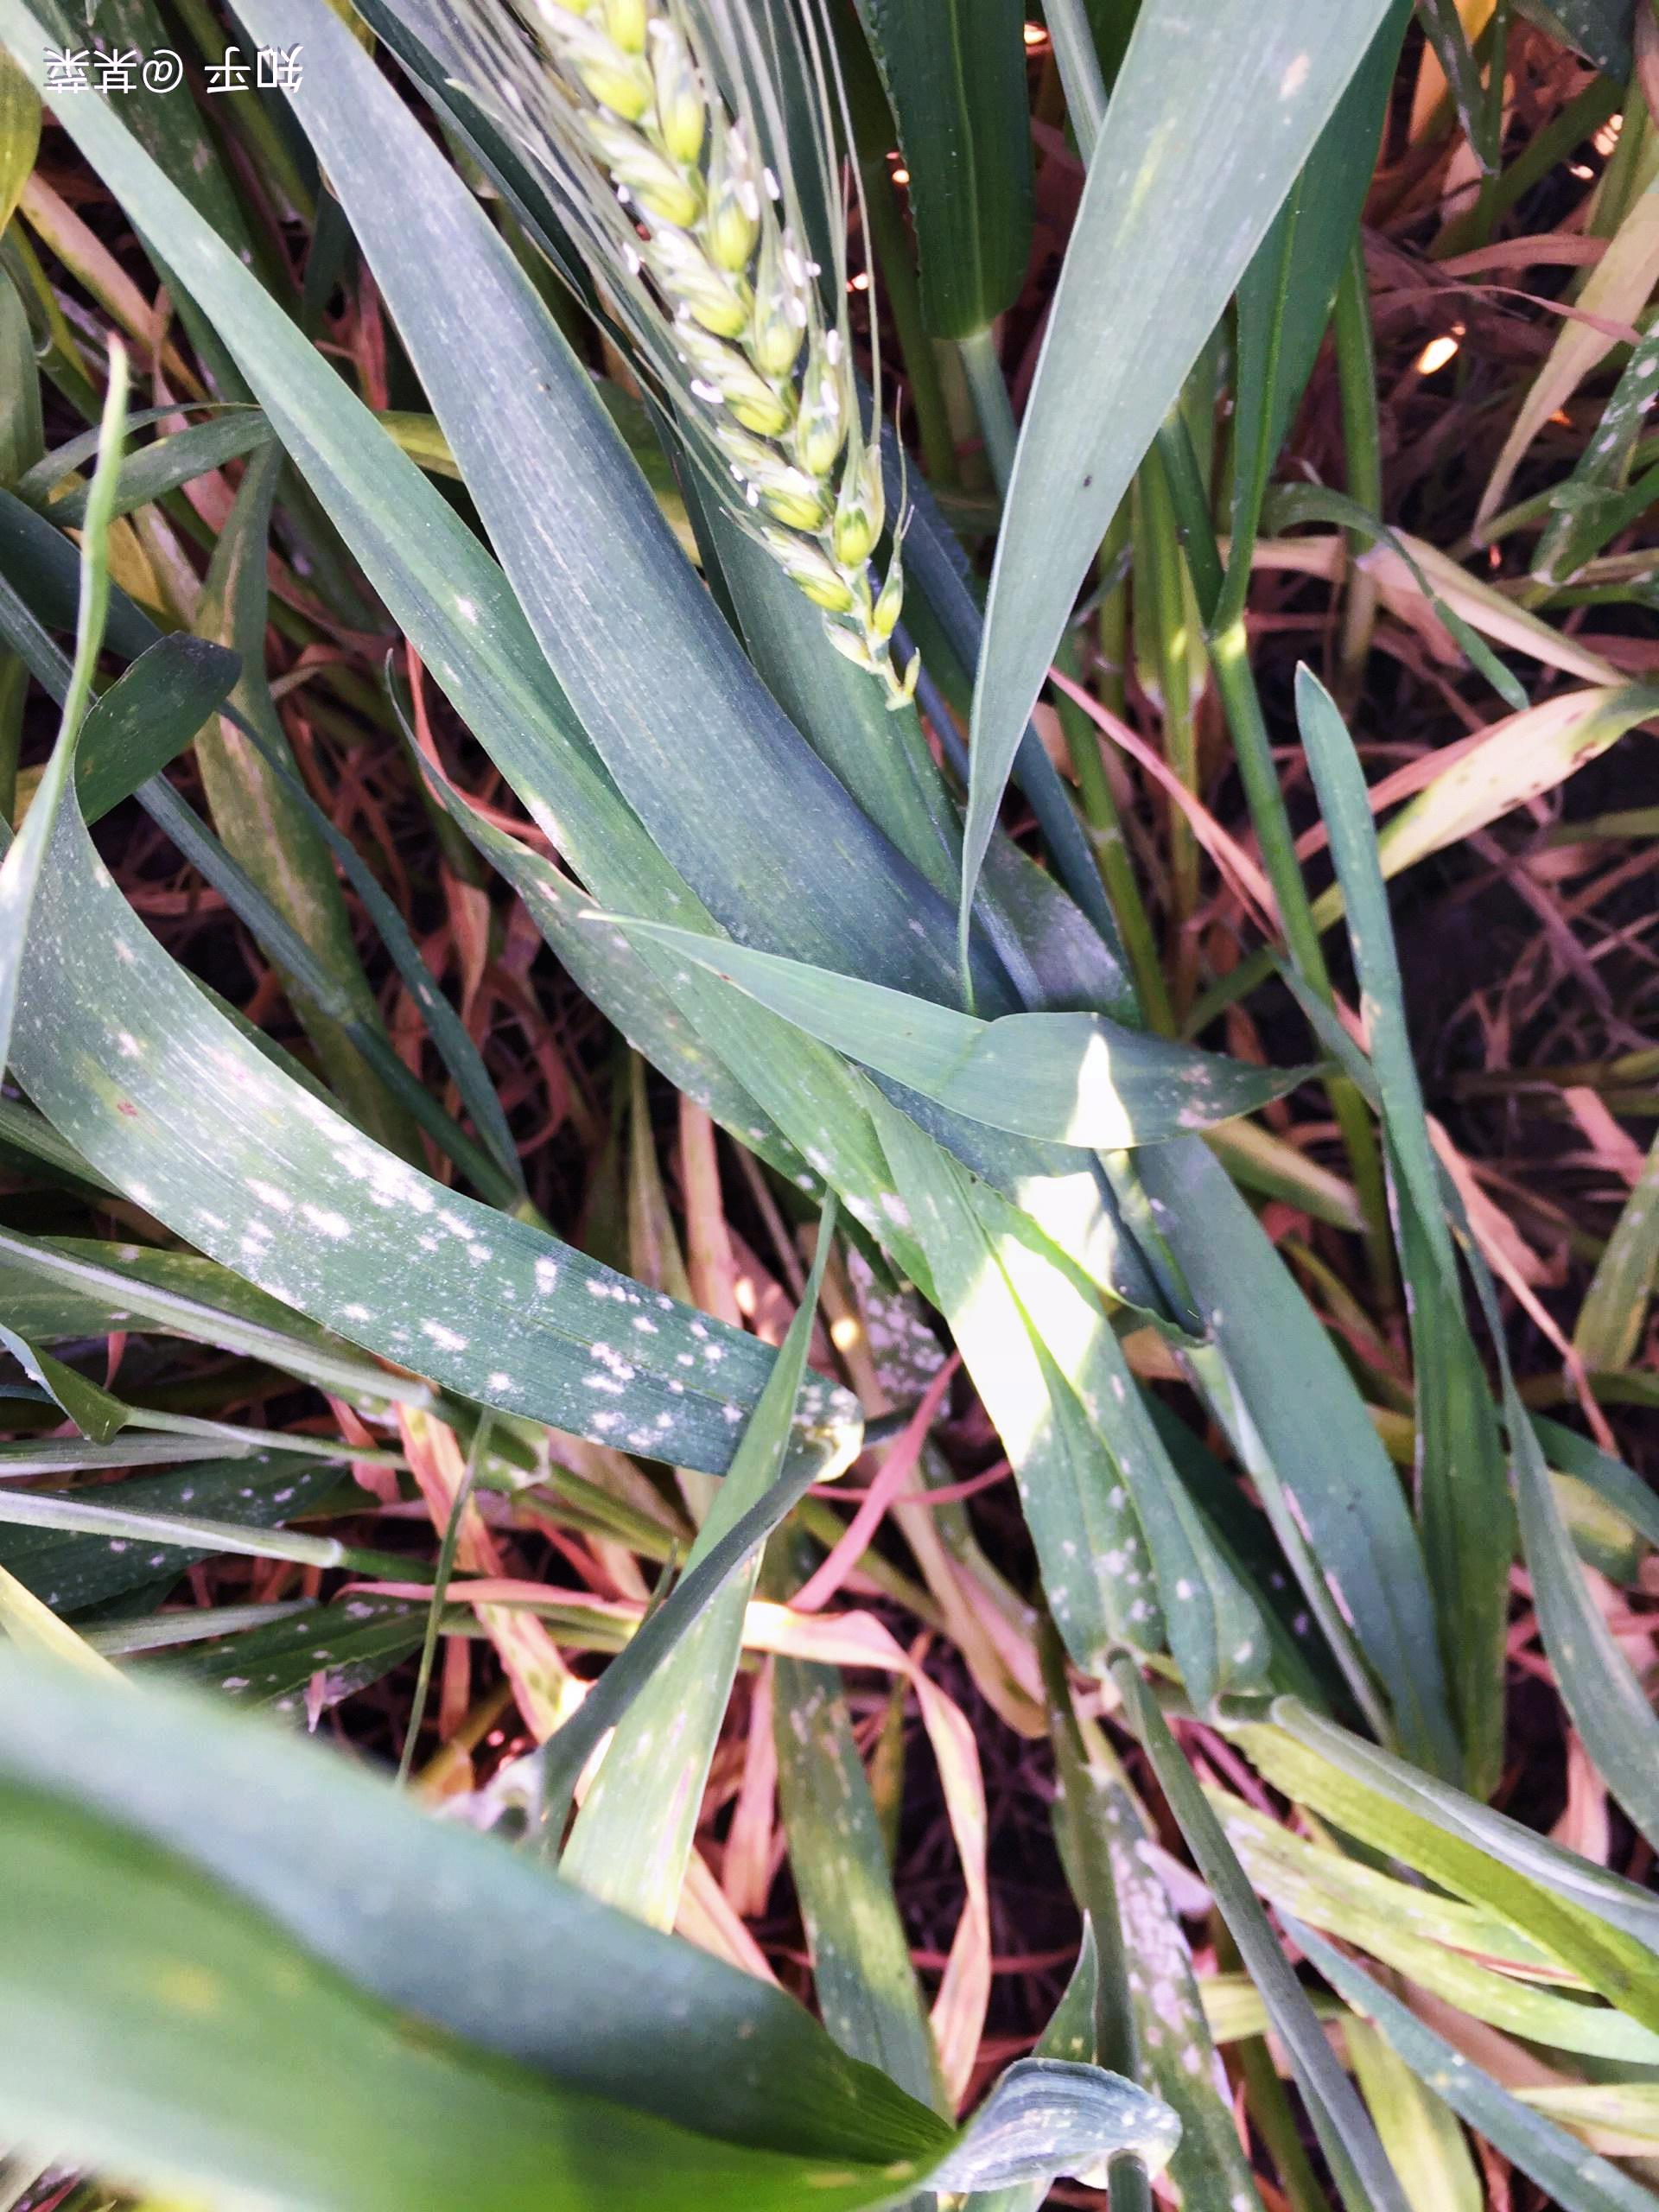Powdery Mildew: (216, 1130, 772, 1475)
